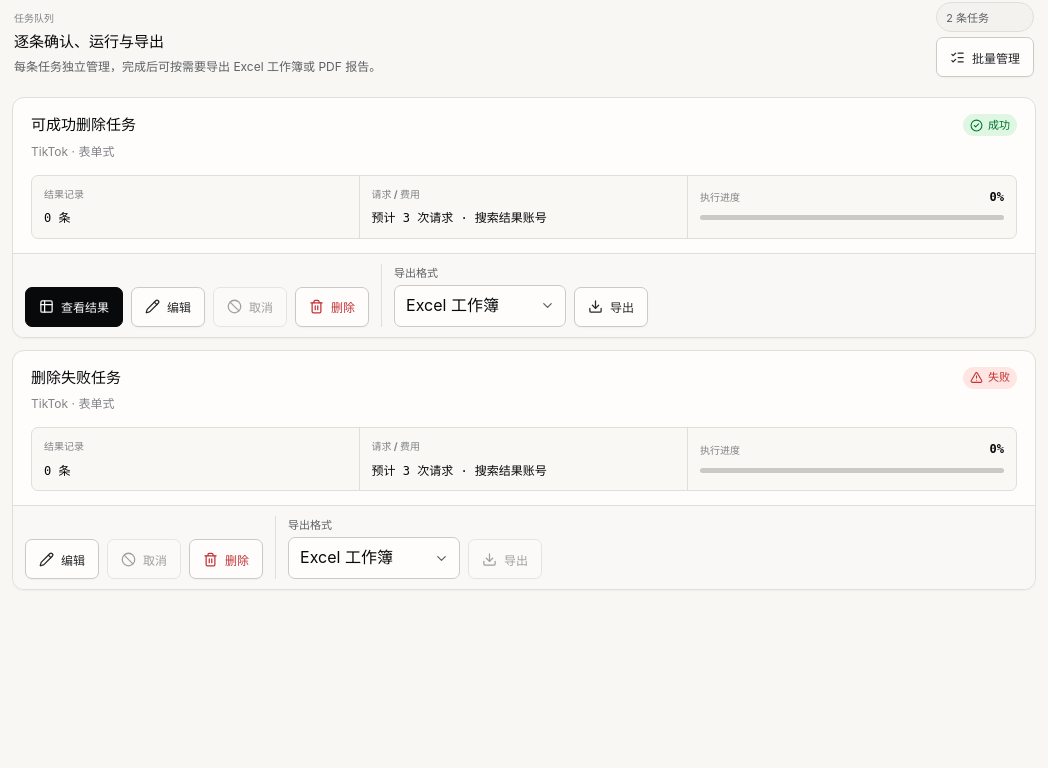
Test: TaskQueue › 批量删除部分失败时只保留失败任务并显示原因
The width and height of the screenshot is (1048, 768).
Click the button with aria-label "批量管理" at (985, 57), box [936, 37, 1034, 77]
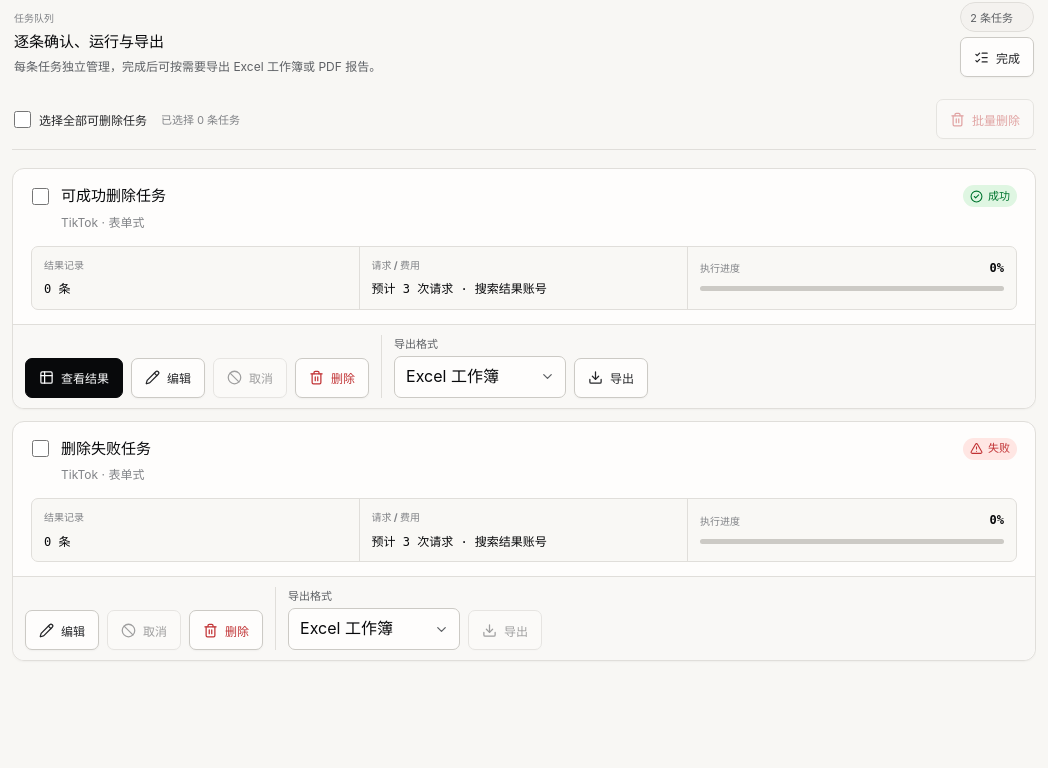
Click the checkbox named "选择全部可删除任务" at (22, 119), box [14, 110, 31, 128]
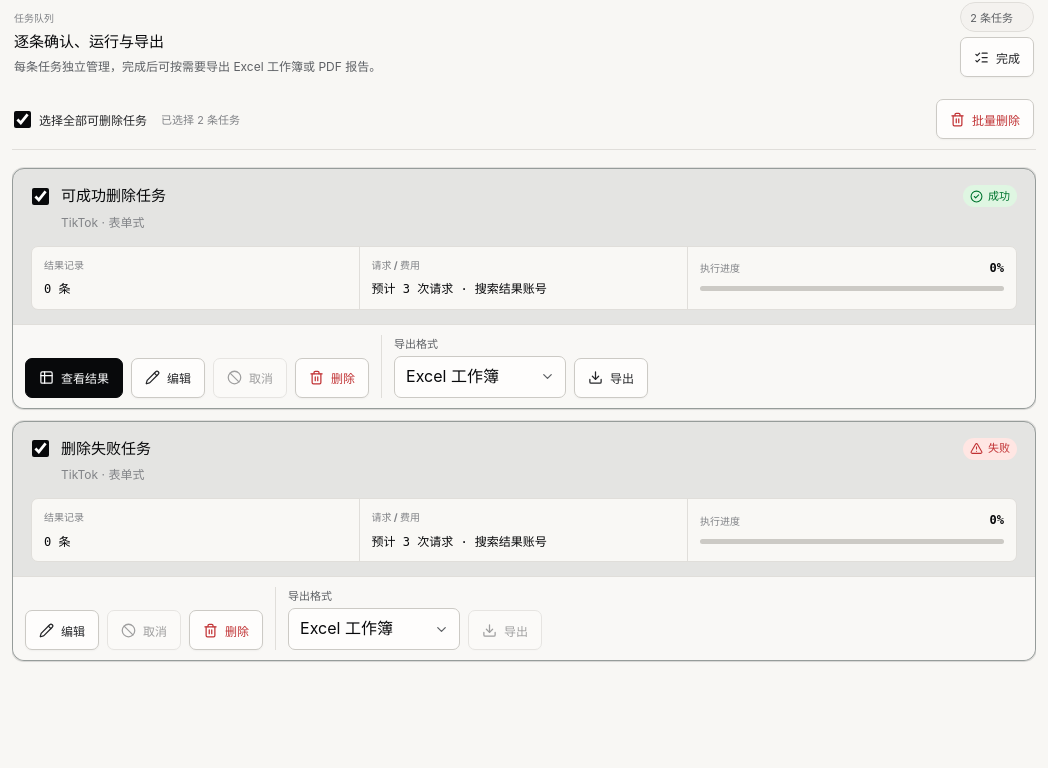
Click the button with aria-label "批量删除" at (985, 119), box [936, 99, 1034, 139]
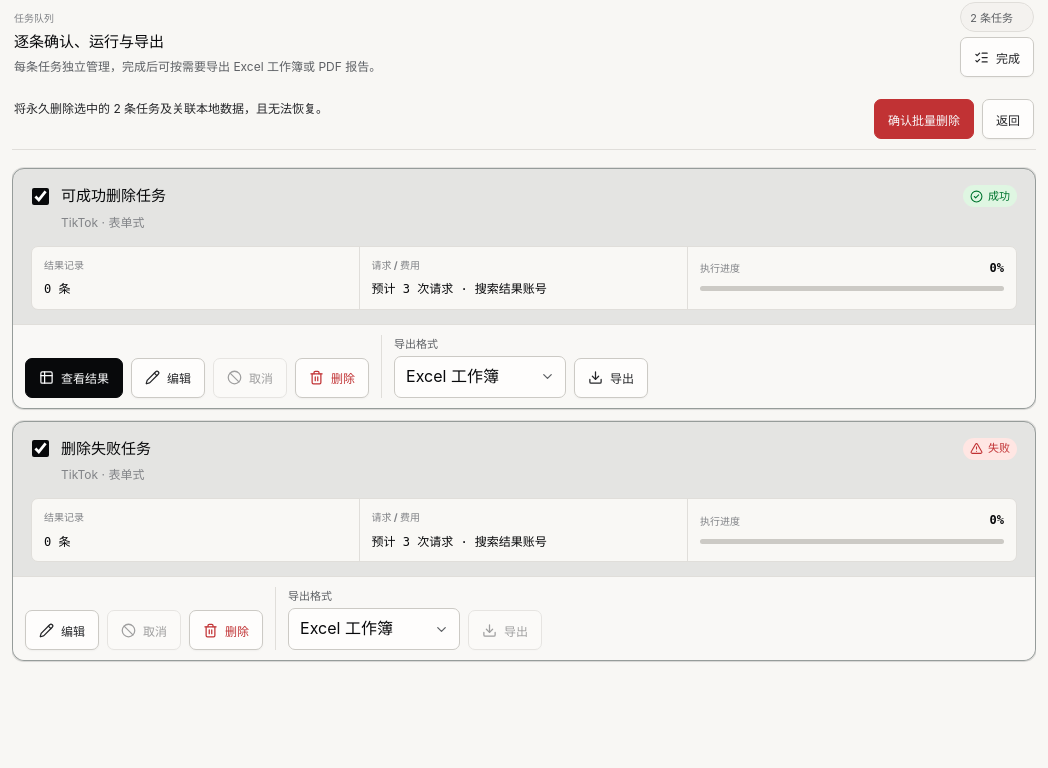
Click the button with aria-label "确认批量删除" at (924, 119), box [874, 99, 974, 139]
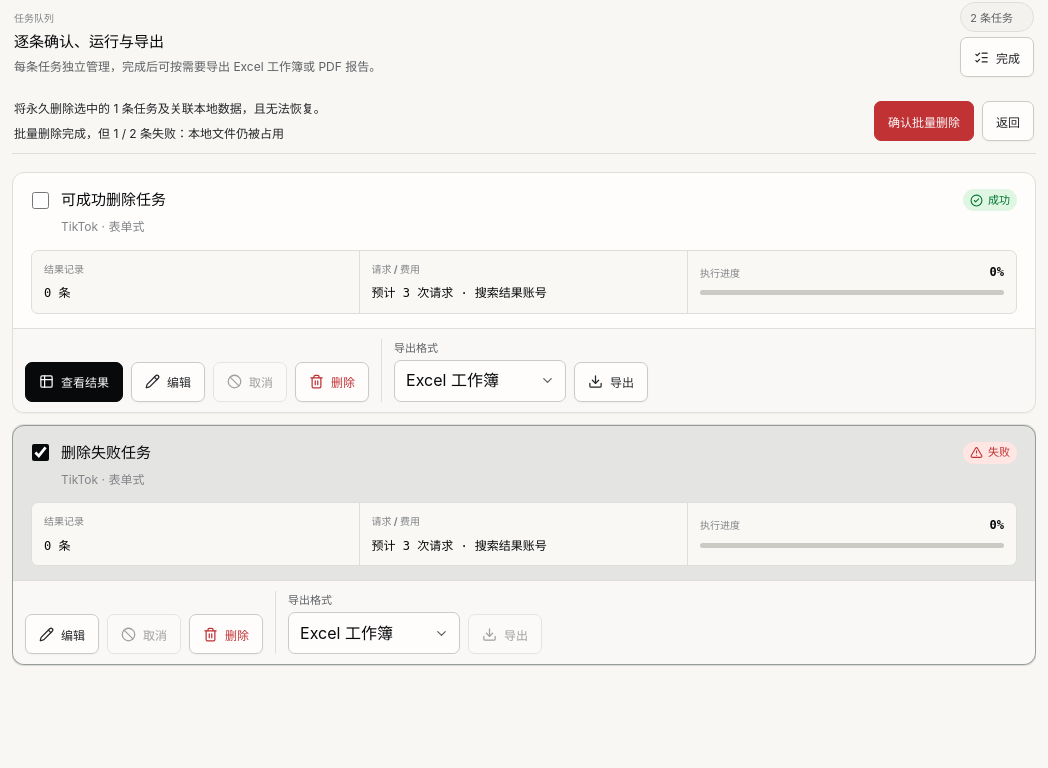
Check: the checkbox named "选择任务 删除失败任务" is checked, box [32, 444, 48, 461]
Check: the message "批量删除完成，但 1 / 2 条失败：本地文件仍被占用" is shown, box [14, 126, 284, 141]
Check: the checkbox named "选择任务 可成功删除任务" is not checked, box [32, 192, 48, 209]
